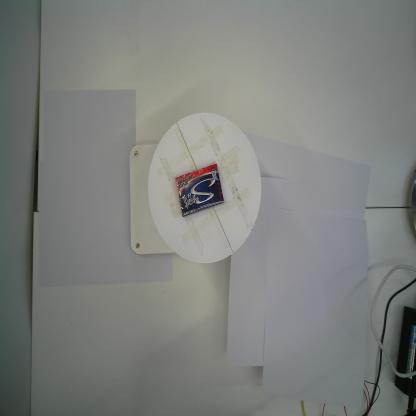Gum: (174, 163, 224, 218)
